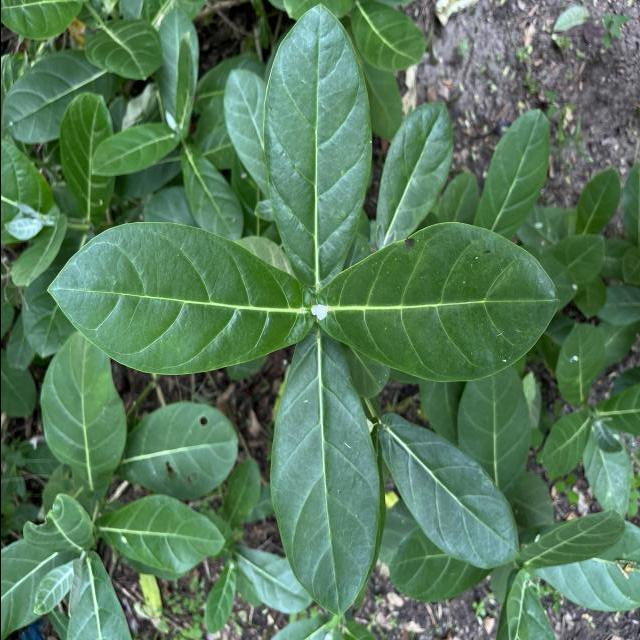Calotropis gigantea: (45, 218, 316, 376), (318, 219, 562, 384), (266, 331, 382, 618), (261, 1, 374, 289), (376, 411, 522, 571), (39, 330, 128, 494), (116, 398, 238, 499), (373, 100, 454, 248), (1, 48, 124, 145), (94, 492, 226, 572), (472, 109, 552, 237), (59, 90, 114, 224), (179, 143, 244, 240), (154, 7, 201, 136), (88, 121, 179, 177)
